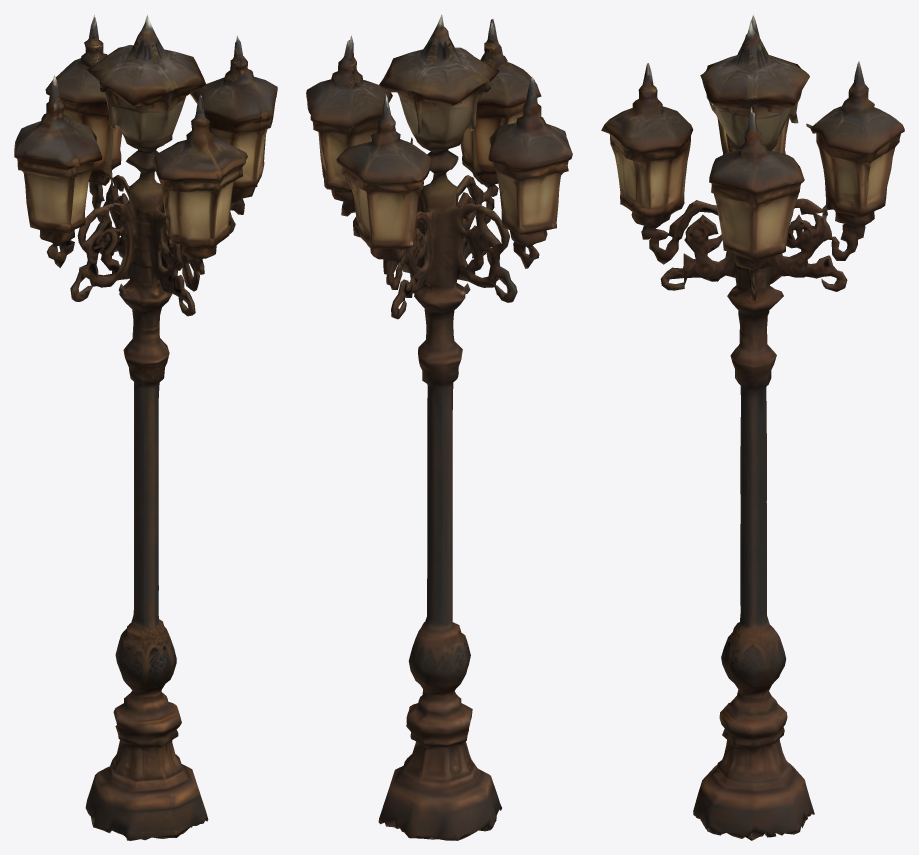
File: lamp1.glb
The picture shows the model from 3 angles, left to right: view 1: azimuth 30°, elevation 25°; view 2: azimuth 150°, elevation 25°; view 3: azimuth 270°, elevation 25°; orthographic projection.
Parts seen in each view (by area): view 1: Object_4; view 2: Object_4; view 3: Object_4.
Part boxes in pixels (x1,y1,x2,y2): Object_4: [14, 14, 277, 840]; Object_4: [306, 14, 572, 840]; Object_4: [601, 14, 904, 840].
Size of the model in its own units: 0.6892 by 2 by 0.6919.
Materials: 1 (1 with a texture image).
